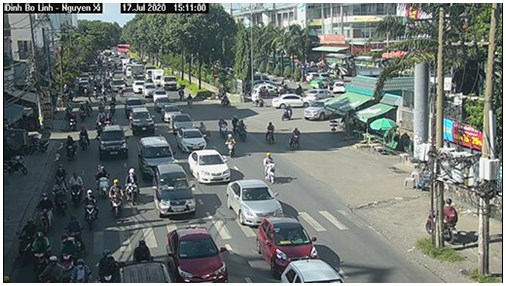xe_hoi: (253, 214, 322, 277), (165, 226, 228, 283), (226, 178, 284, 226), (152, 163, 196, 220), (137, 135, 175, 177), (186, 149, 231, 184), (98, 123, 130, 161), (173, 127, 208, 152), (131, 105, 156, 136), (171, 112, 193, 134), (160, 104, 180, 124), (123, 98, 143, 118)
xe_may: (17, 213, 35, 263), (96, 245, 119, 284), (38, 253, 65, 284), (51, 177, 71, 216), (81, 189, 100, 228), (124, 165, 142, 205), (93, 160, 111, 200), (67, 167, 84, 208), (130, 234, 153, 263), (36, 191, 52, 232), (59, 235, 75, 276), (108, 179, 124, 219), (262, 151, 279, 186), (69, 257, 89, 283), (285, 124, 302, 152), (63, 133, 78, 163), (235, 115, 250, 144), (78, 125, 92, 153), (263, 119, 277, 144), (218, 115, 230, 138), (225, 134, 236, 156), (67, 110, 77, 134)
